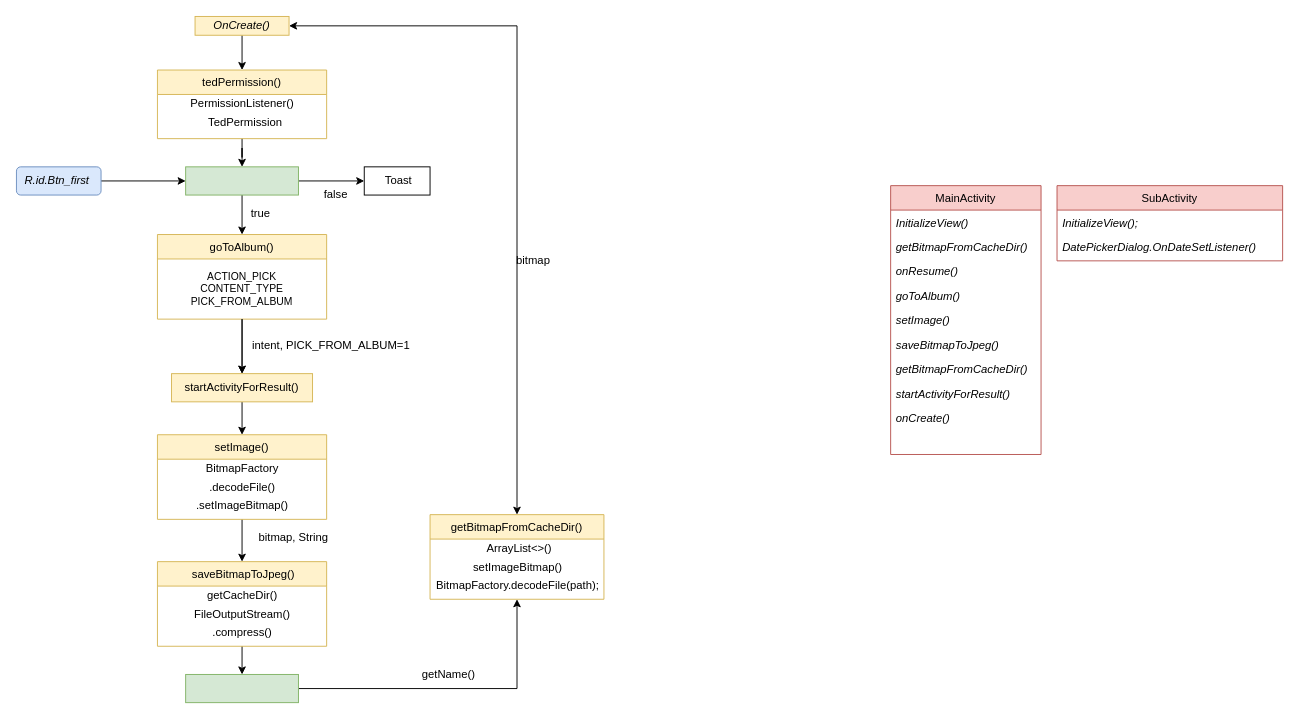
The diagram is 1299 pixels wide and 719 high, and some of its shapes have lost their labels. Each missing label, with the centre of its shape:
isPermission: point 241,180
tempFile: point 241,688
